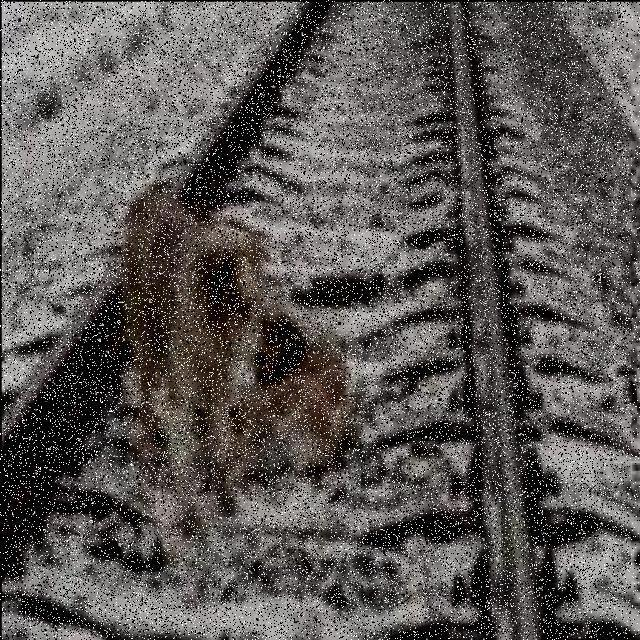rail: (5, 2, 630, 639)
